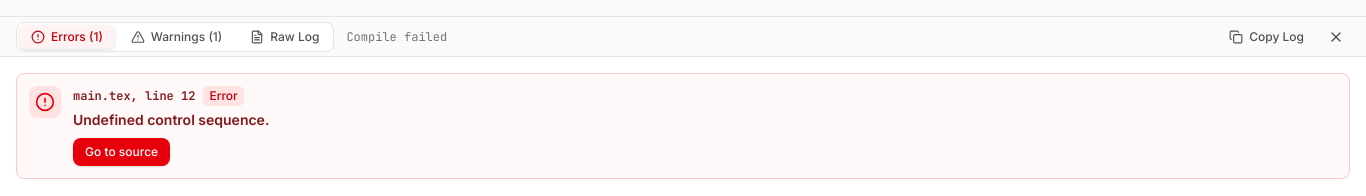
Test case: tabs › switches to the warnings tab
The width and height of the screenshot is (1366, 196).
Click the tab "Warnings (1)" at [176, 37], box [119,25,234,49]
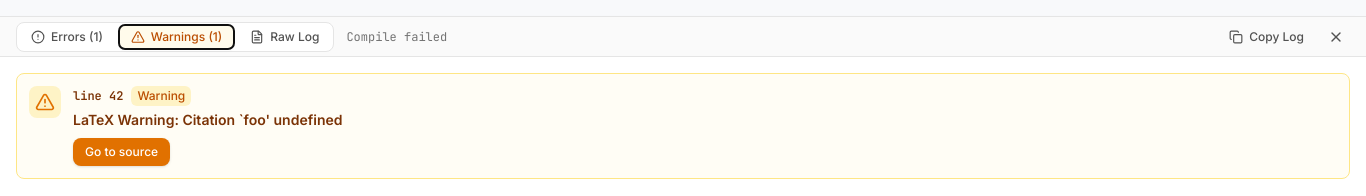
Expected: the text "LaTeX Warning: Citation `foo' undefined" is shown, [73,111,342,128]
